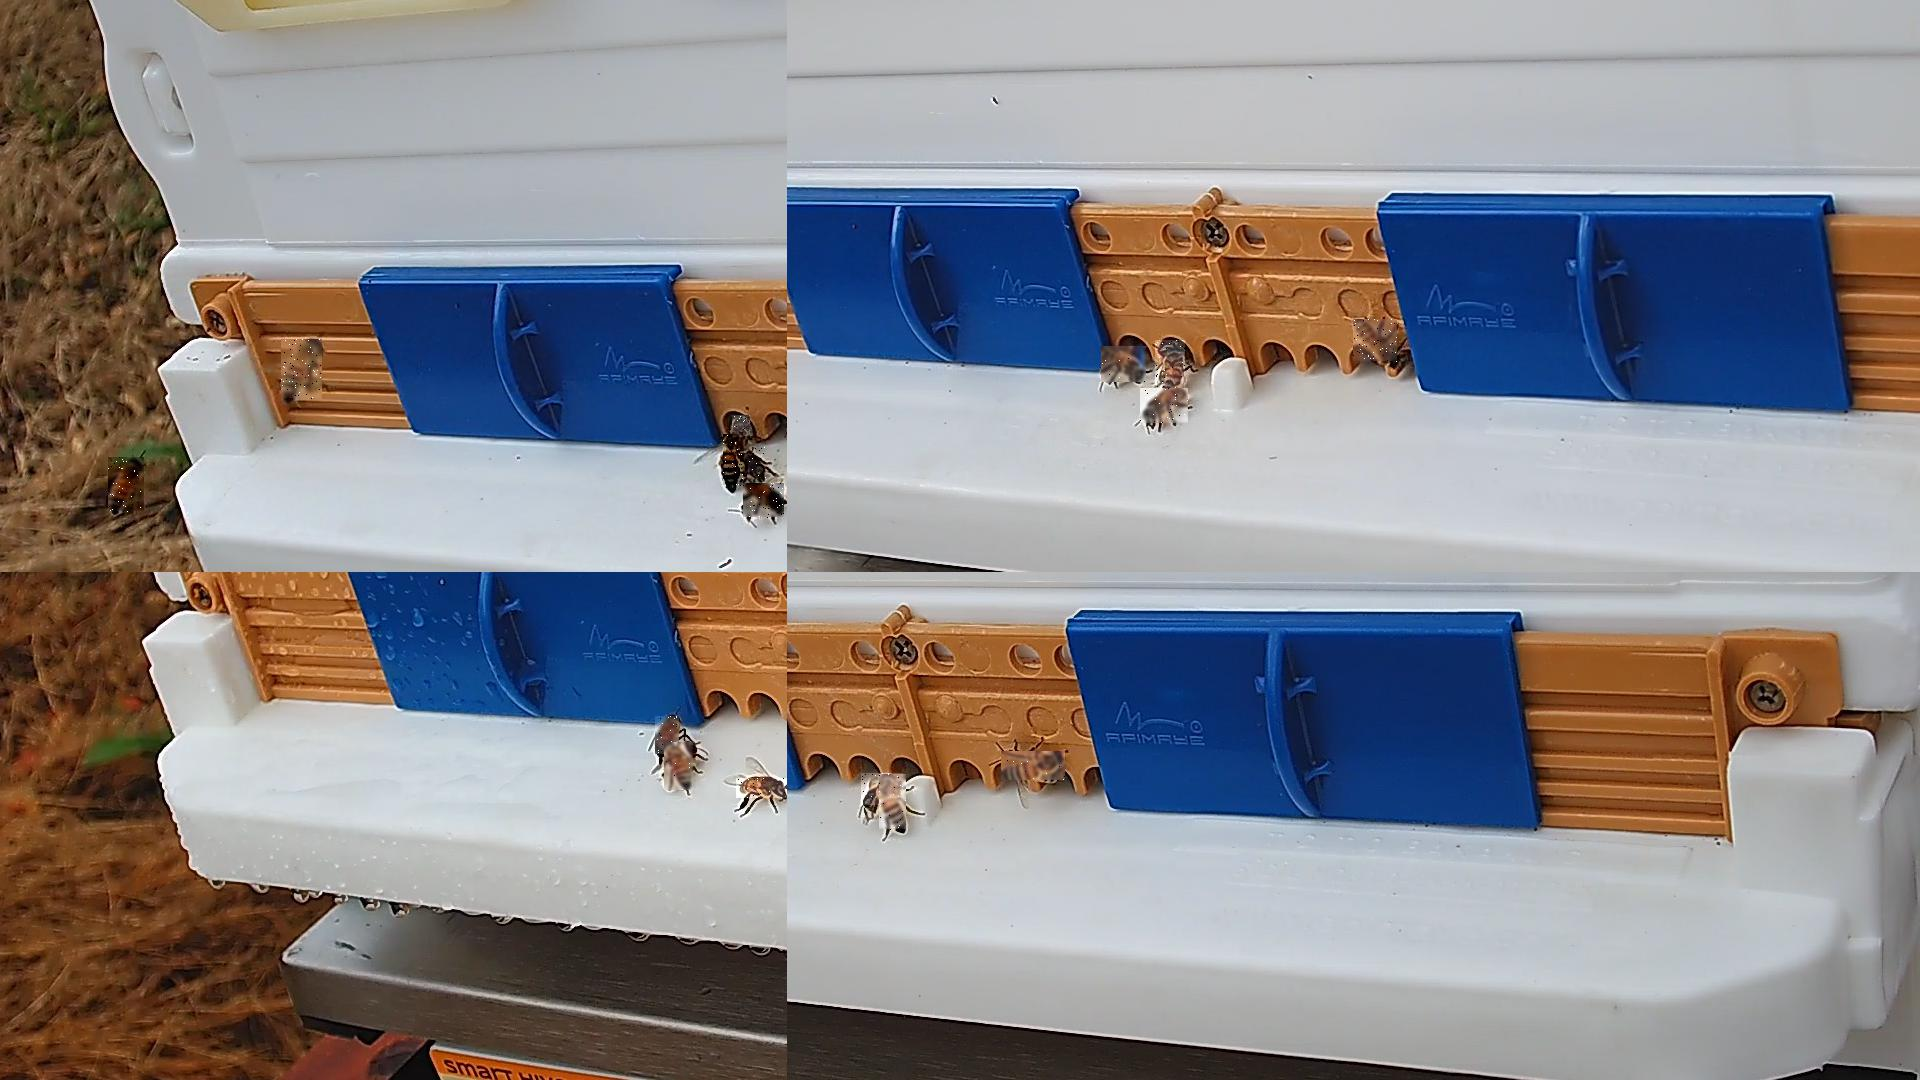bee: (108, 458, 145, 514), (1353, 320, 1398, 364), (1001, 752, 1065, 781), (1141, 389, 1189, 426), (1102, 345, 1149, 384), (880, 775, 907, 832), (1155, 340, 1185, 392), (665, 742, 696, 791), (744, 484, 785, 520), (861, 773, 905, 806), (723, 435, 744, 489), (736, 778, 786, 800), (655, 716, 680, 756), (740, 446, 767, 479), (732, 415, 752, 440)
pollenbee: (281, 340, 323, 401)
